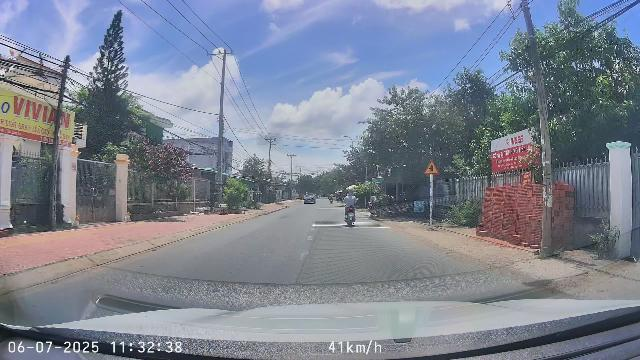207-giao-nhau-voi-duong-khong-uu-tien: (424, 160, 440, 175)
